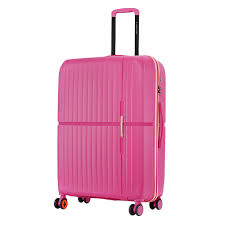suitcase: (51, 7, 169, 218)
